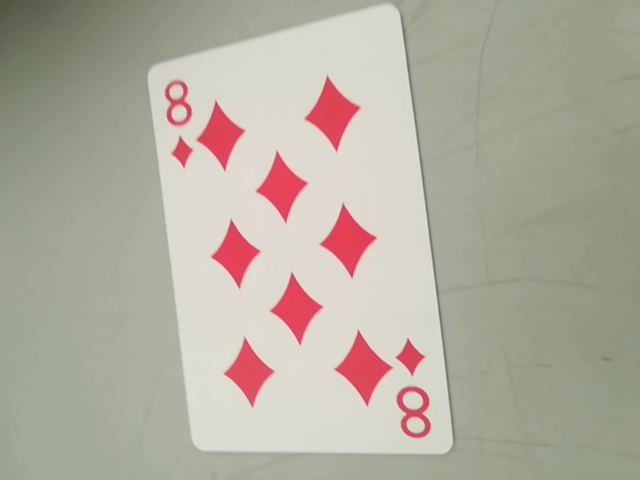fk 8: (156, 70, 206, 174), (395, 388, 438, 446)
